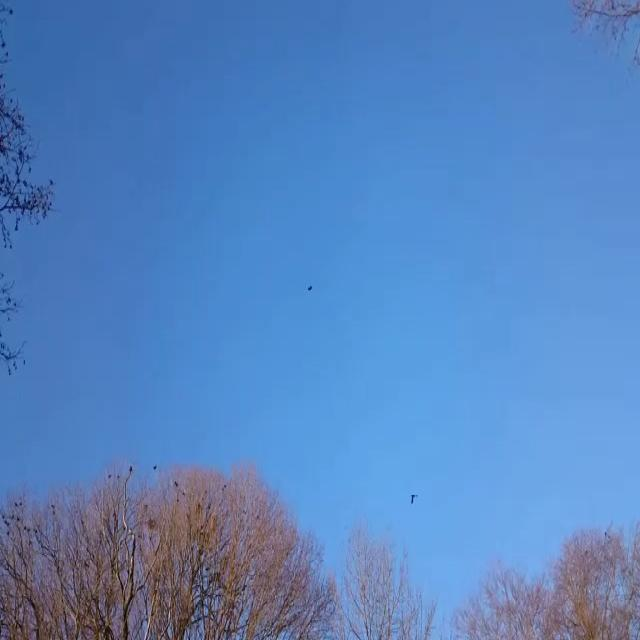bird: (303, 278, 317, 298), (407, 489, 420, 509)
